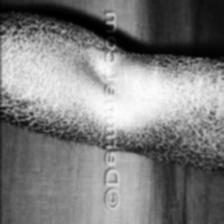Non-Cancerous Skin Condition: (2, 34, 88, 132), (168, 101, 224, 172)
